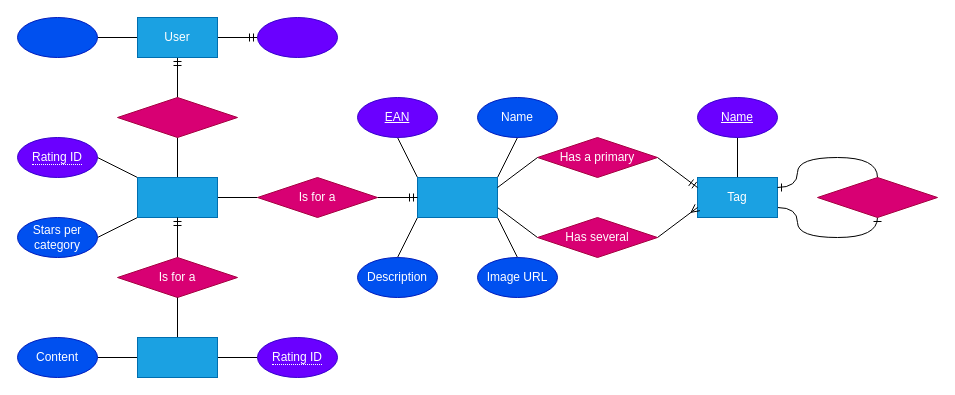
The diagram is 955 pixels wide and 395 high, and some of its shapes have lost their labels. Each missing label, with the centre of its shape:
"Can have a" belongs at (x=877, y=197).
"Email" belongs at (x=297, y=37).
"Is written by" belongs at (x=177, y=117).
"Nickname" belongs at (x=57, y=37).
"Product" belongs at (x=457, y=197).
"Rating" belongs at (x=177, y=197).
"Review" belongs at (x=177, y=357).
